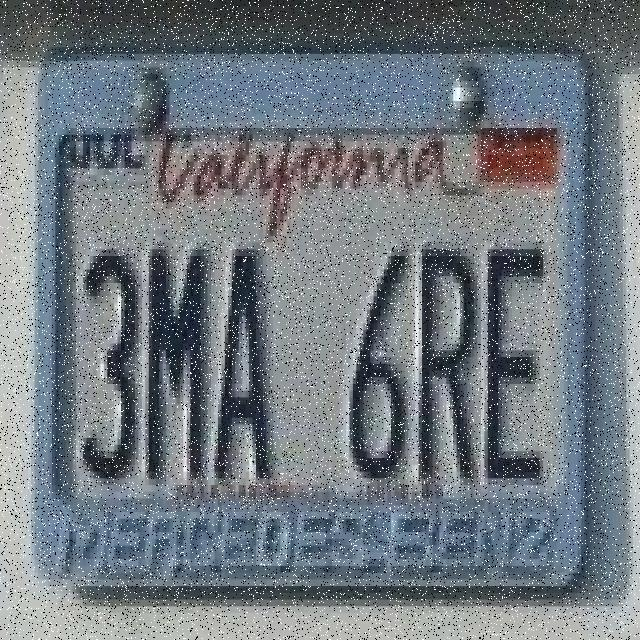licenseplate: (34, 53, 602, 603)
